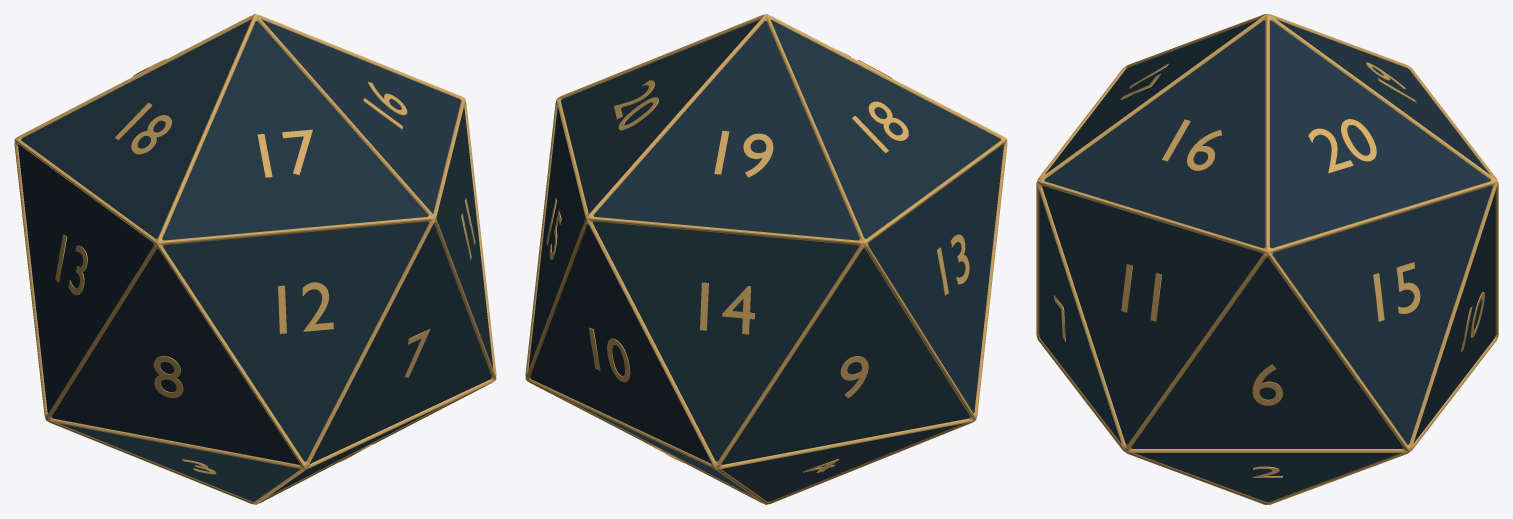
Rendered from obsidian-die-v1.glb.
3 views of the same model, side by side, from view 1: azimuth 30°, elevation 25°; view 2: azimuth 150°, elevation 25°; view 3: azimuth 270°, elevation 25° (orthographic).
Parts seen in each view (by area): view 1: ObsidianD20, D20GoldEdges, EngravedDieNumber.011, EngravedDieNumber.017, EngravedDieNumber.016, EngravedDieNumber.007, EngravedDieNumber.012, EngravedDieNumber.015; view 2: ObsidianD20, D20GoldEdges, EngravedDieNumber.013, EngravedDieNumber.018, EngravedDieNumber.017, EngravedDieNumber.019, EngravedDieNumber.009, EngravedDieNumber.012, EngravedDieNumber.008; view 3: ObsidianD20, D20GoldEdges, EngravedDieNumber.019, EngravedDieNumber.015, EngravedDieNumber.014, EngravedDieNumber.010, EngravedDieNumber.005.
Boxes of the visible parts, left/top/right/bottom form: ObsidianD20: left=18, top=19, right=493, bottom=501; D20GoldEdges: left=14, top=14, right=496, bottom=504; EngravedDieNumber.011: left=278, top=282, right=333, bottom=333; EngravedDieNumber.017: left=115, top=102, right=171, bottom=154; EngravedDieNumber.016: left=257, top=129, right=312, bottom=177; EngravedDieNumber.007: left=153, top=356, right=183, bottom=398; EngravedDieNumber.012: left=55, top=234, right=87, bottom=295; EngravedDieNumber.015: left=363, top=82, right=407, bottom=129; ObsidianD20: left=528, top=19, right=1003, bottom=501; D20GoldEdges: left=525, top=14, right=1007, bottom=504; EngravedDieNumber.013: left=700, top=282, right=755, bottom=334; EngravedDieNumber.018: left=714, top=130, right=773, bottom=177; EngravedDieNumber.017: left=851, top=101, right=908, bottom=153; EngravedDieNumber.019: left=614, top=80, right=658, bottom=130; EngravedDieNumber.009: left=588, top=327, right=630, bottom=382; EngravedDieNumber.012: left=937, top=234, right=969, bottom=295; EngravedDieNumber.008: left=840, top=356, right=868, bottom=398; ObsidianD20: left=1039, top=20, right=1495, bottom=502; D20GoldEdges: left=1036, top=14, right=1498, bottom=504; EngravedDieNumber.019: left=1308, top=119, right=1376, bottom=173; EngravedDieNumber.015: left=1162, top=119, right=1221, bottom=170; EngravedDieNumber.014: left=1373, top=262, right=1420, bottom=321; EngravedDieNumber.010: left=1121, top=264, right=1161, bottom=321; EngravedDieNumber.005: left=1252, top=364, right=1282, bottom=405.
Bounding box in the file's own units: 1.28 × 1.43 × 1.22.
